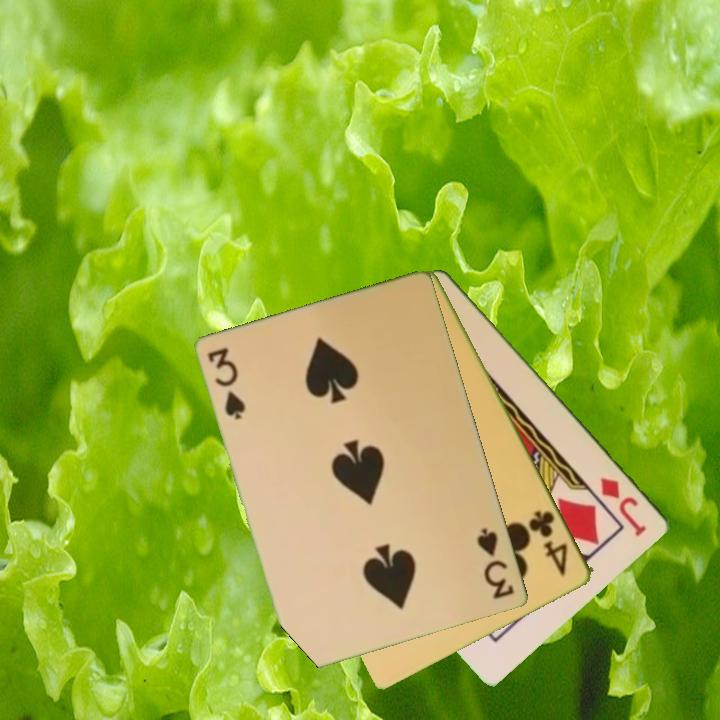3s: (205, 344, 249, 423), (474, 525, 518, 602)
4c: (526, 507, 572, 579)
Jd: (597, 473, 650, 540)
